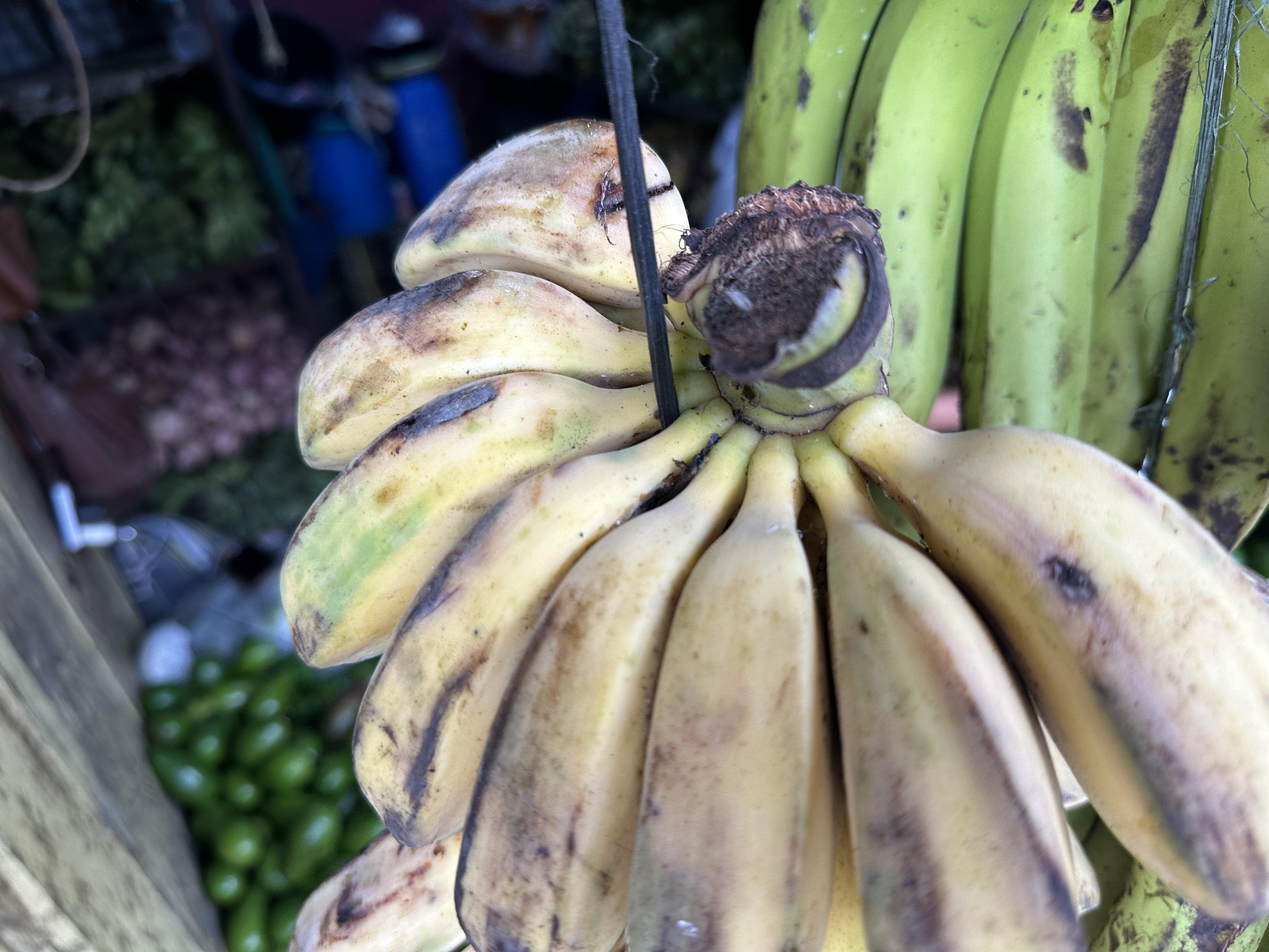ripe: (281, 120, 1269, 952)
